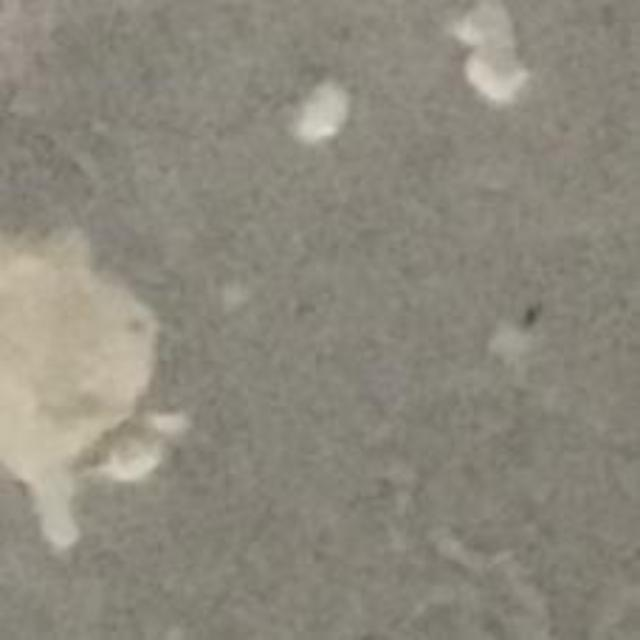peeling plaster: (0, 229, 188, 552), (0, 232, 188, 552)
